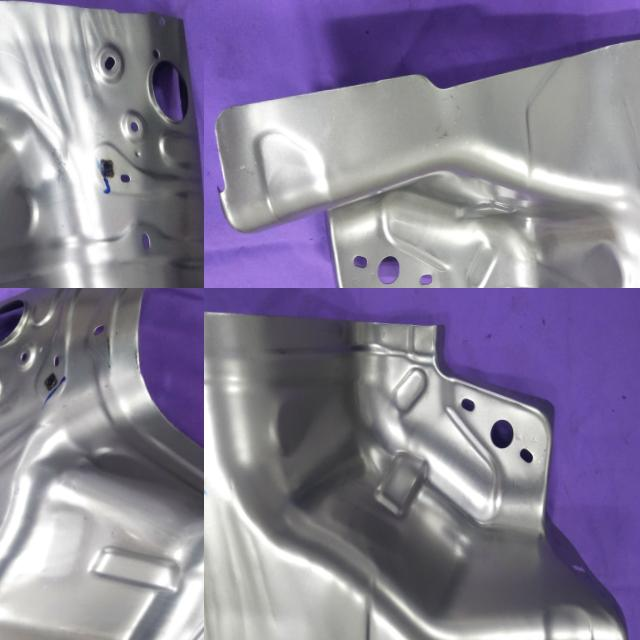Healthy: (204, 289, 632, 640), (210, 4, 640, 288), (0, 288, 204, 640), (0, 0, 204, 288)
